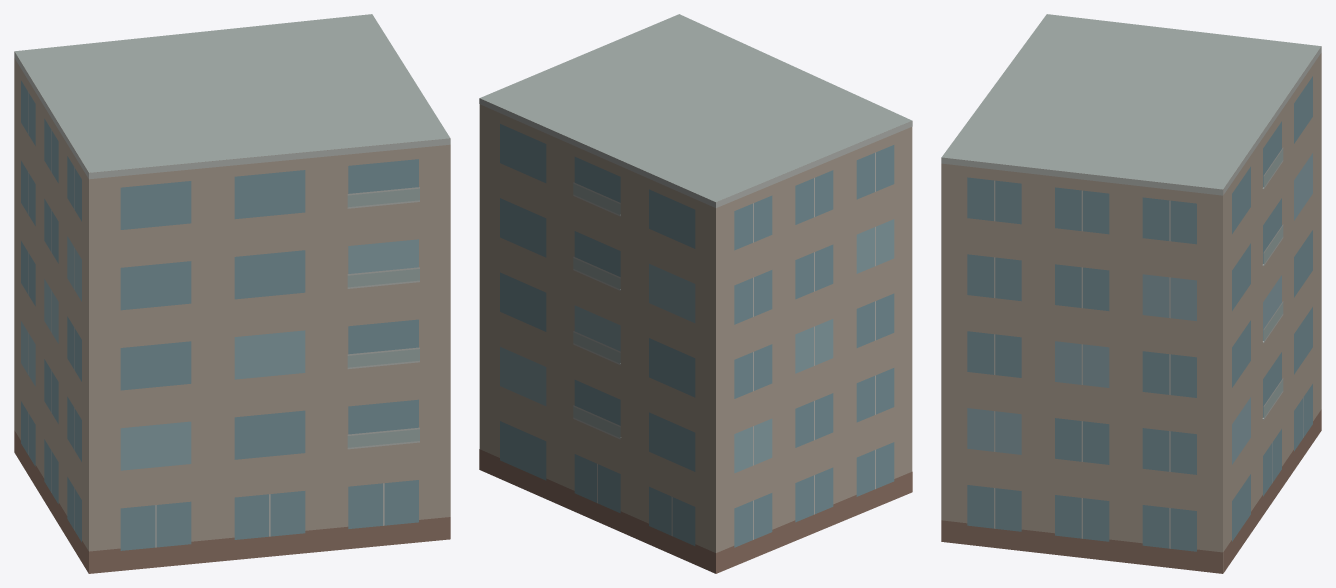
The model's file is survey-upis-32816717.glb.
3 views of the same model, side by side, from view 1: azimuth 30°, elevation 25°; view 2: azimuth 150°, elevation 25°; view 3: azimuth 270°, elevation 25° (orthographic). The views are drawn at different scales.
Visible parts, largest first — view 1: survey-upis-32816717.tmp; view 2: survey-upis-32816717.tmp; view 3: survey-upis-32816717.tmp.
Boxes of the visible parts, box(x1,y1,x2,y2) form: survey-upis-32816717.tmp: box(14, 14, 450, 573); survey-upis-32816717.tmp: box(479, 14, 912, 573); survey-upis-32816717.tmp: box(941, 14, 1321, 573).
Size of the model in its own units: 14.99 by 15.3 by 13.72.
